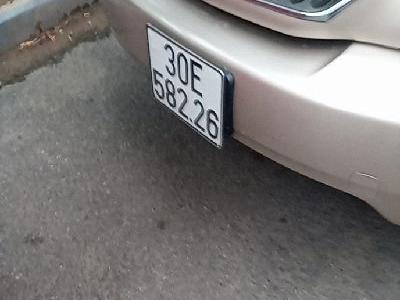lisence: (146, 22, 226, 150)
